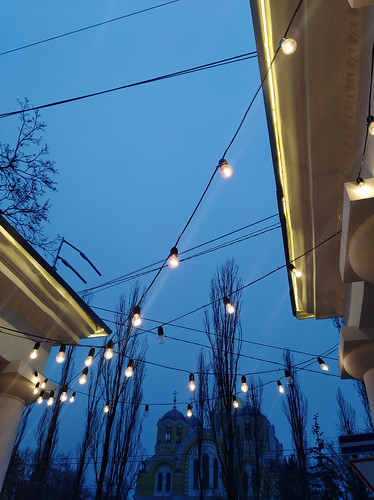building: (245, 1, 374, 412), (1, 204, 110, 467), (131, 395, 281, 492)
sky: (1, 1, 328, 427)
